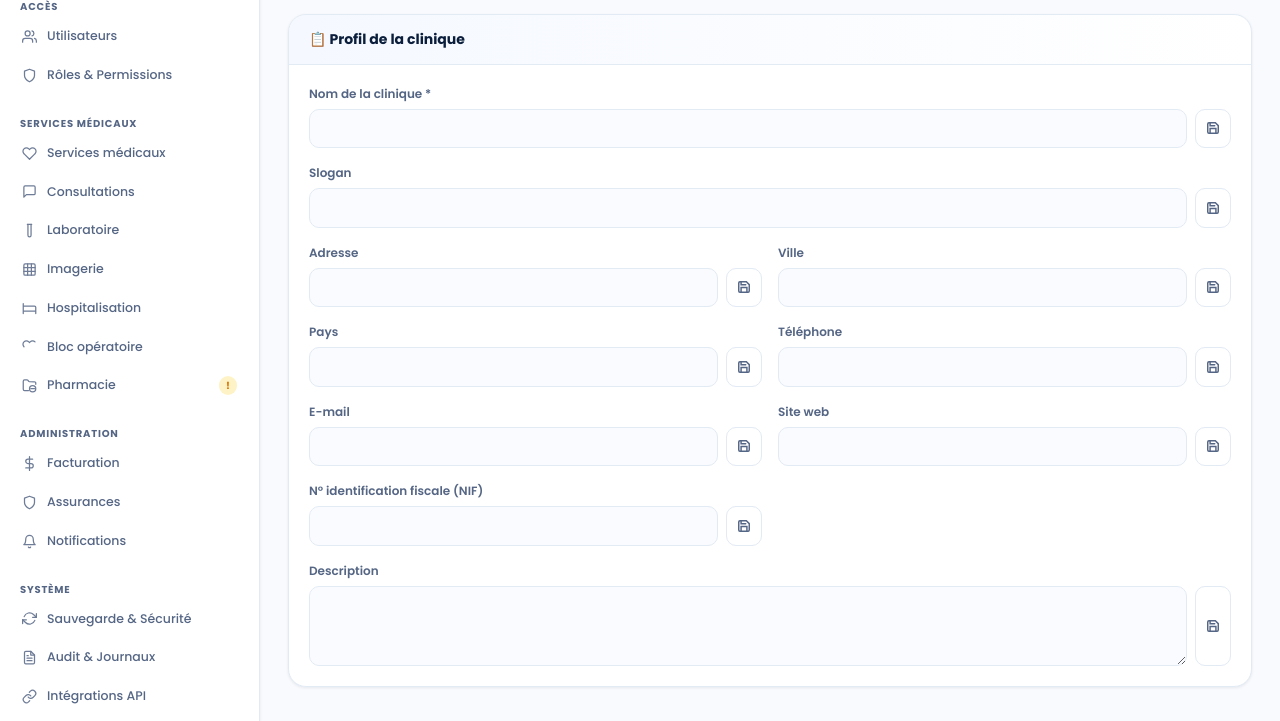
Test: la carte e-mail (Resend) n'affiche plus aucun champ SMTP ni bouton de test
(page scrolled)
Click the button "Notifications": (130, 541) [10,523,249,560]
(page scrolled)
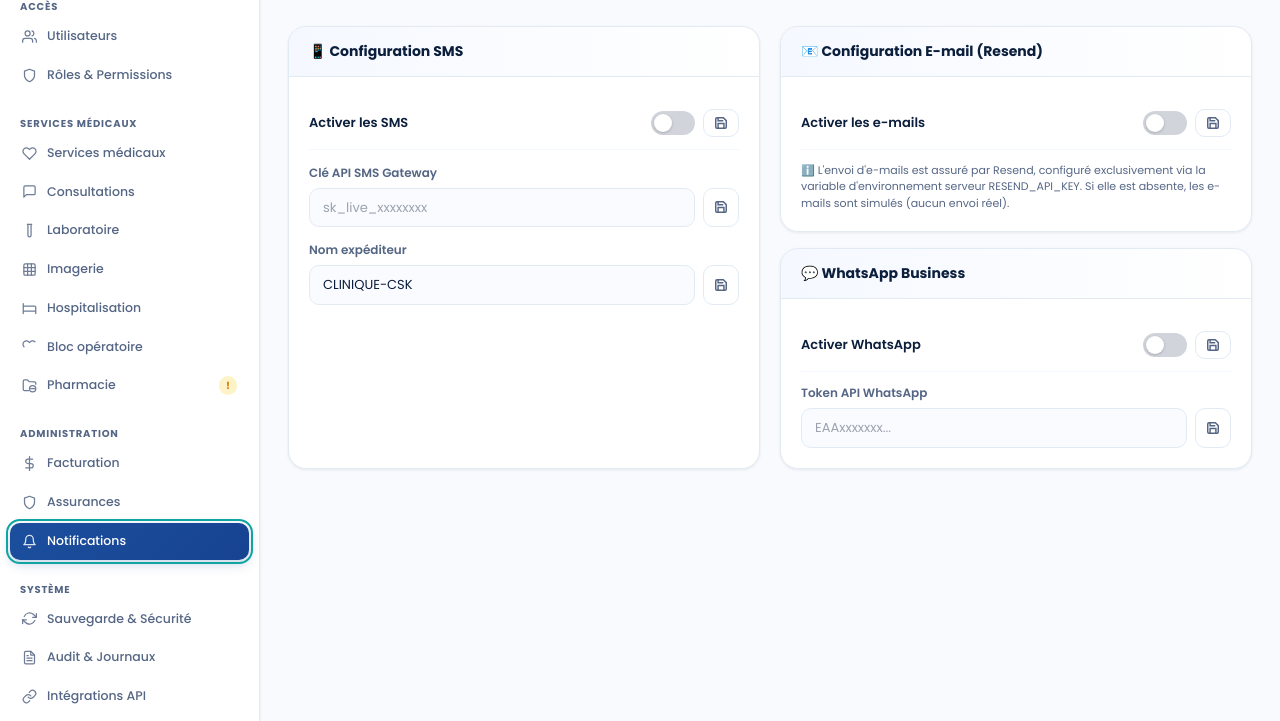
Check: the text "RESEND_API_KEY" is shown, box [801,162,1220,210]
